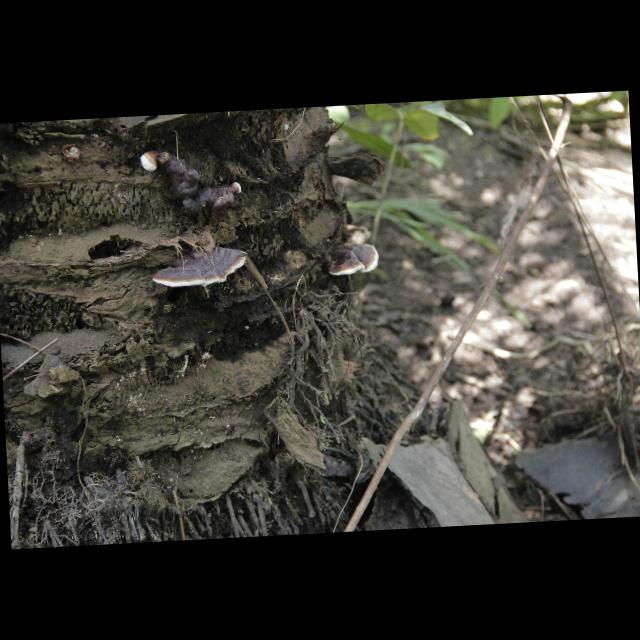ganoderma: (159, 148, 236, 221), (152, 245, 250, 291), (329, 243, 382, 278)
primordium: (141, 150, 160, 173), (231, 182, 244, 196), (286, 125, 291, 132)
